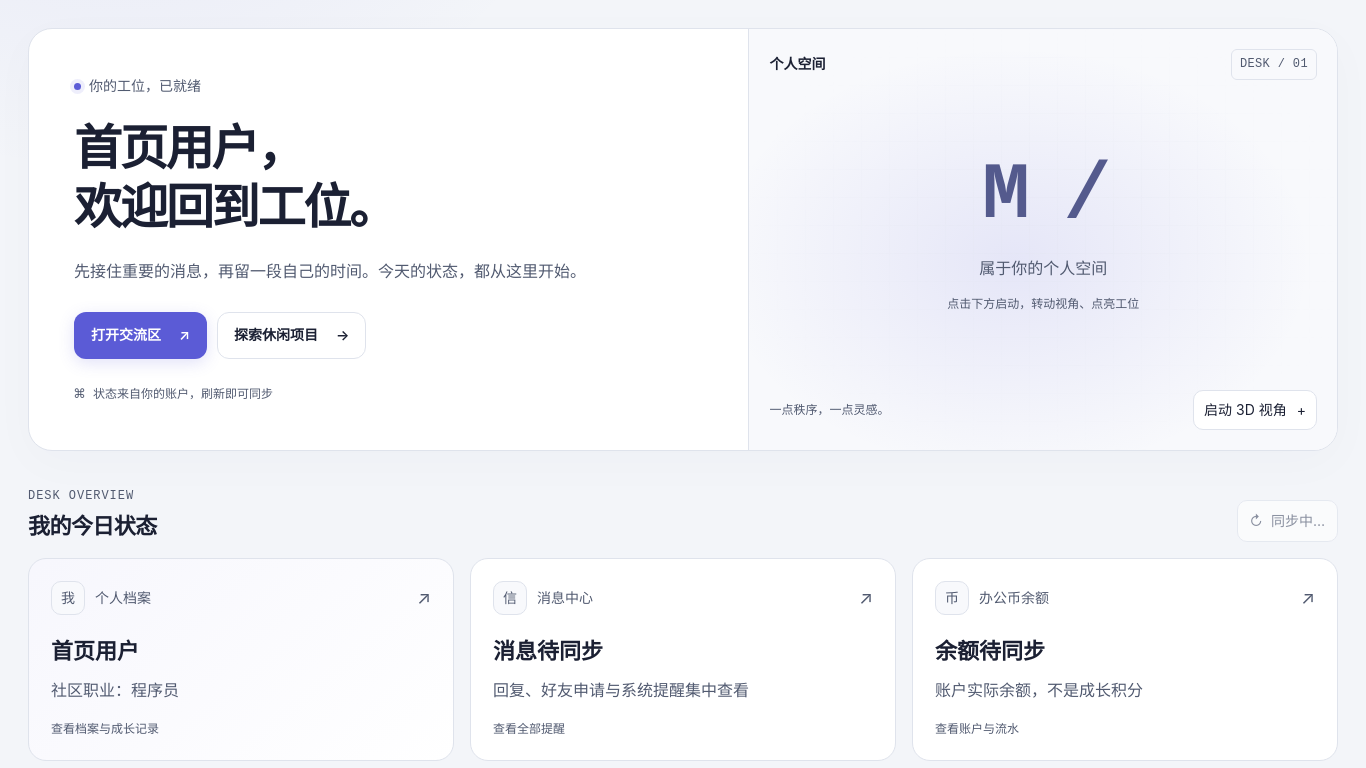
Test: CommunityHomePage workspace › keeps the desk and working links available when the decorative scene fails
The width and height of the screenshot is (1366, 768).
Click the button "启动 3D 视角 +" at [1255, 410], box [1193,390,1317,430]
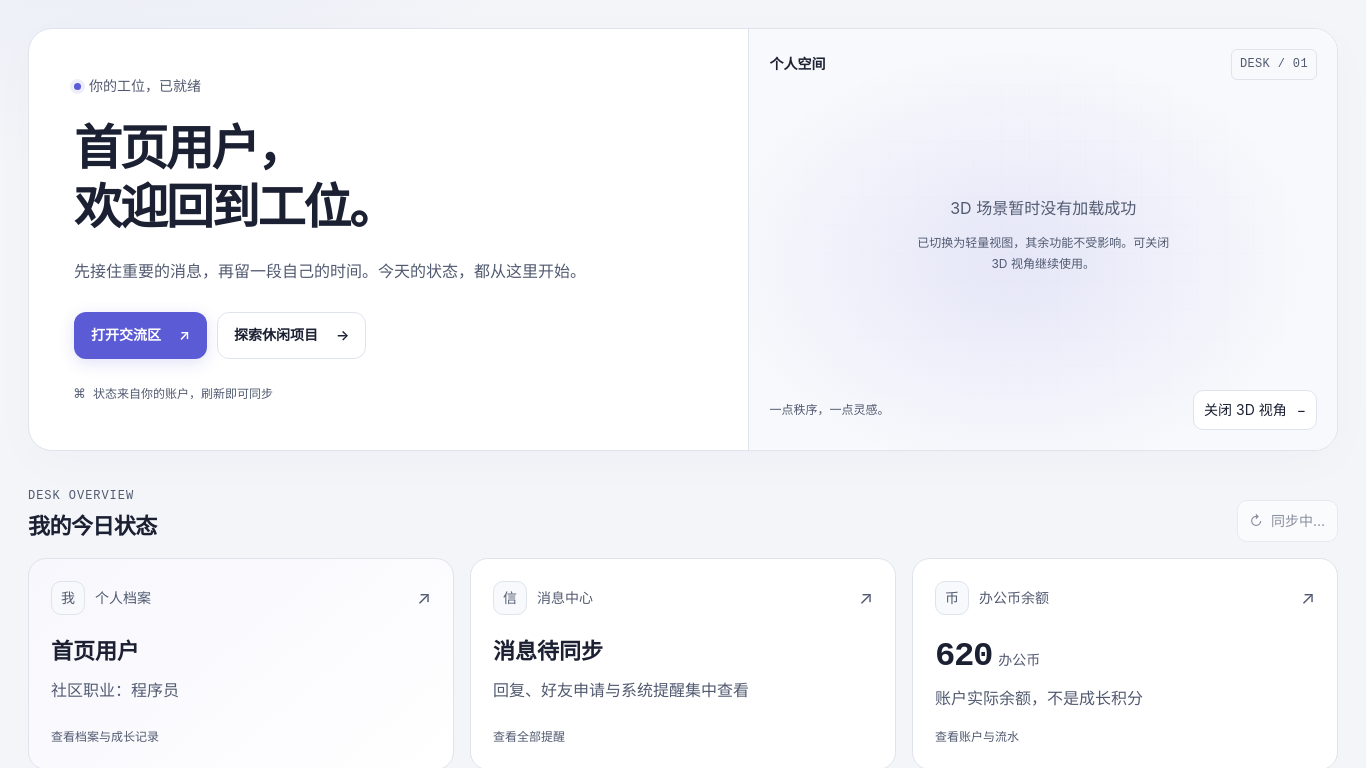
Now the text "3D 场景暂时没有加载成功" is shown, box [950,196,1136,221]
Click the button "关闭 3D 视角 −" at [1255, 410], box [1193,390,1317,430]
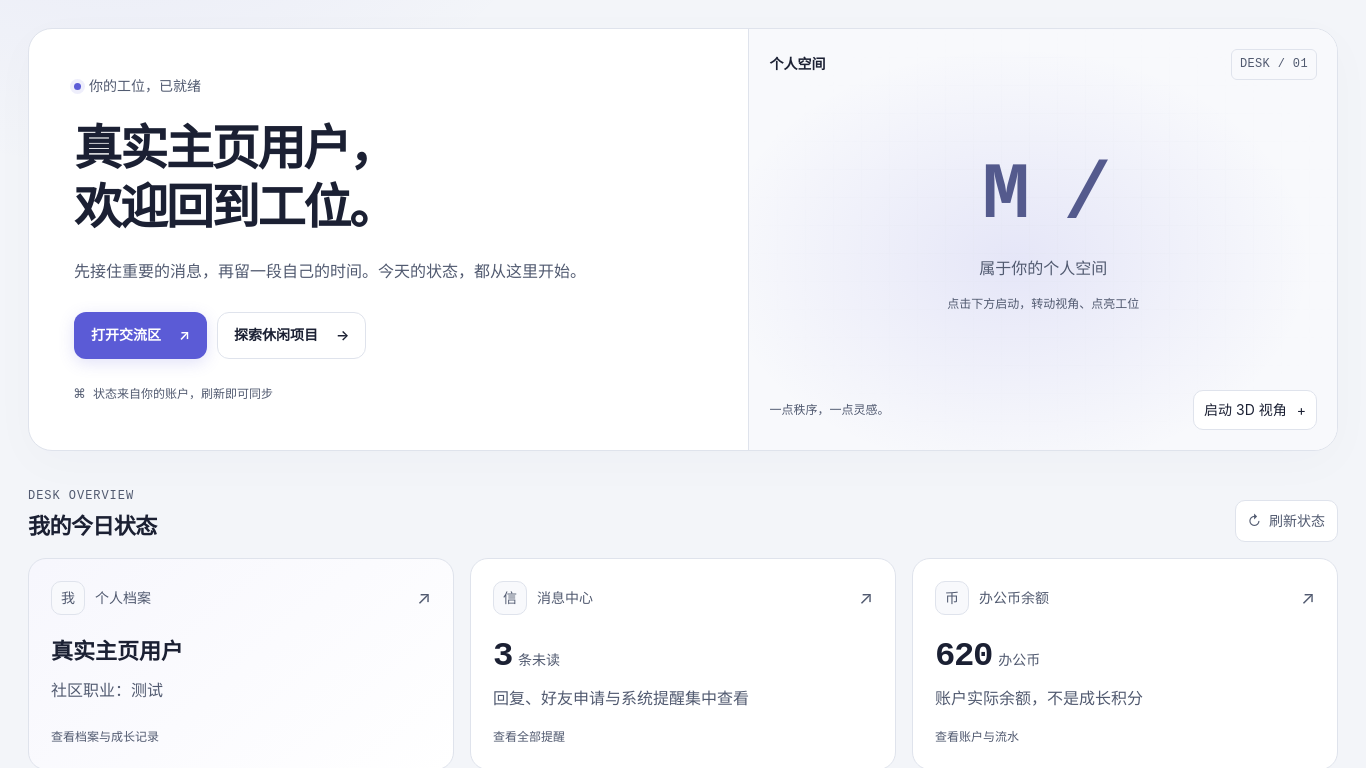
Now the text "属于你的个人空间" is shown, box [979,256,1107,282]
